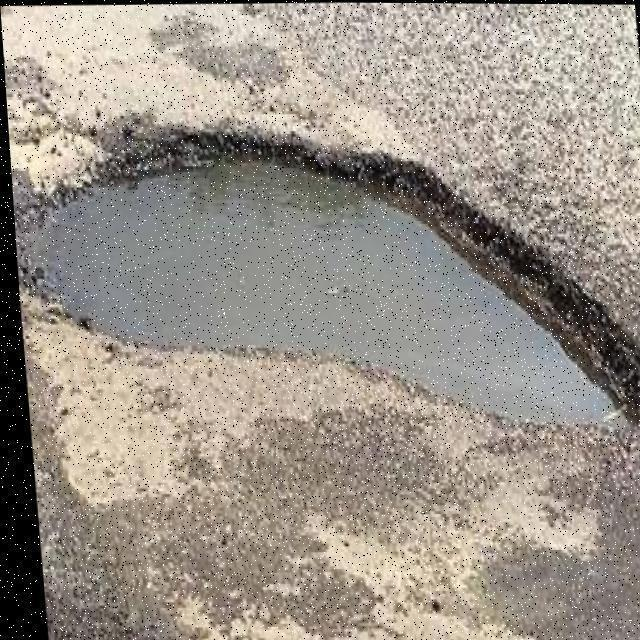Pothole: (21, 130, 635, 428)
